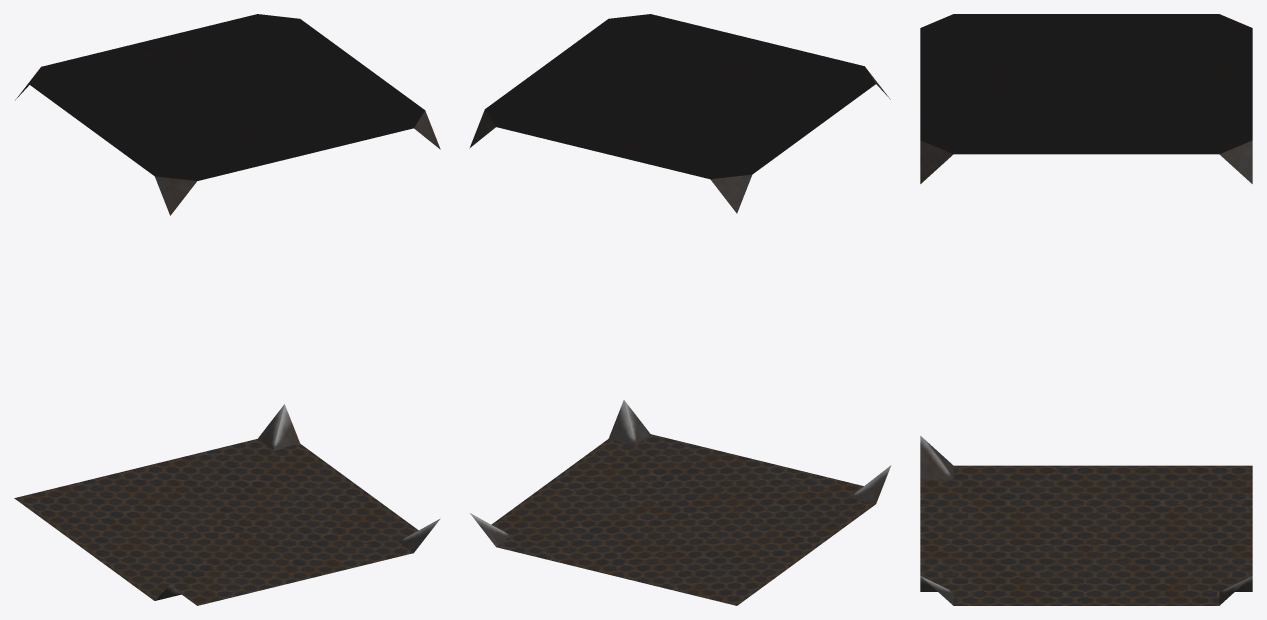
File: FloorCrossing3CornerBottom.fbx
The picture shows the model from 3 angles, left to right: view 1: azimuth 30°, elevation 25°; view 2: azimuth 150°, elevation 25°; view 3: azimuth 270°, elevation 25°; orthographic projection. The views are drawn at different scales.
Parts seen in each view (by area): view 1: FloorCrossing3CornerBottom; view 2: FloorCrossing3CornerBottom; view 3: FloorCrossing3CornerBottom.
Boxes of the visible parts, x1=… form: FloorCrossing3CornerBottom: x1=14, y1=14, x2=440, y2=605; FloorCrossing3CornerBottom: x1=469, y1=14, x2=891, y2=605; FloorCrossing3CornerBottom: x1=920, y1=14, x2=1252, y2=605.
Size of the model in its own units: 200 by 300 by 200.
Materials: 1 (1 with a texture image).
